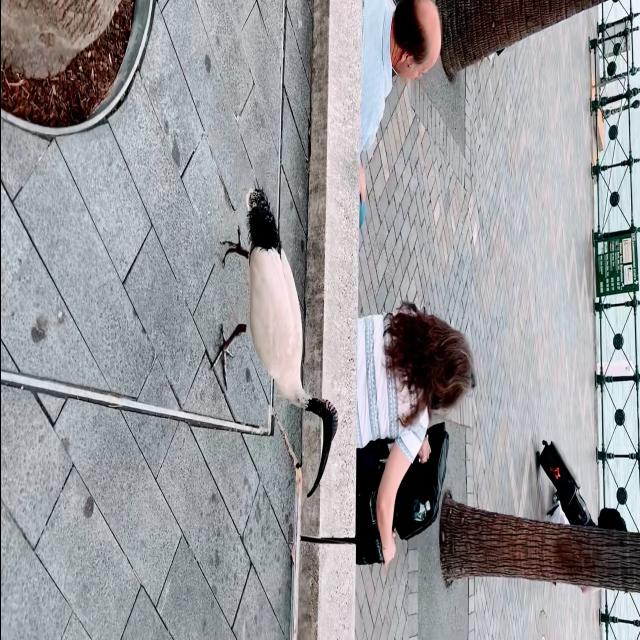Birds-Ibis: (205, 177, 341, 502)
